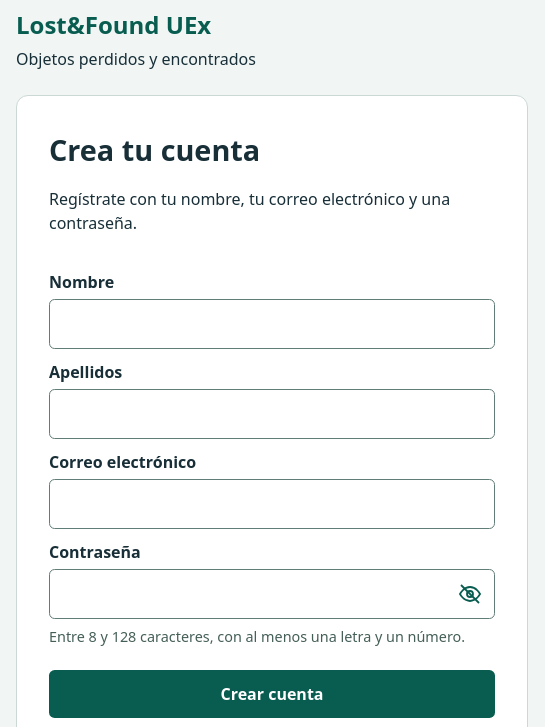
muestra y oculta la contraseña sin cambiarla ni enviar el formulario
The image size is (545, 727).
In the field labelled "Nombre": (272, 324) [49, 299, 495, 349], type "Persona"
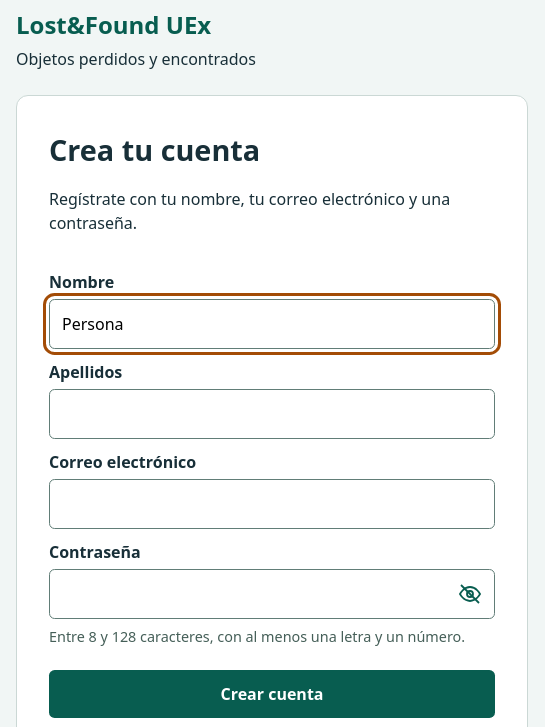
In the field labelled "Apellidos": (272, 414) [49, 389, 495, 439], type "Ficticia Ejemplo"
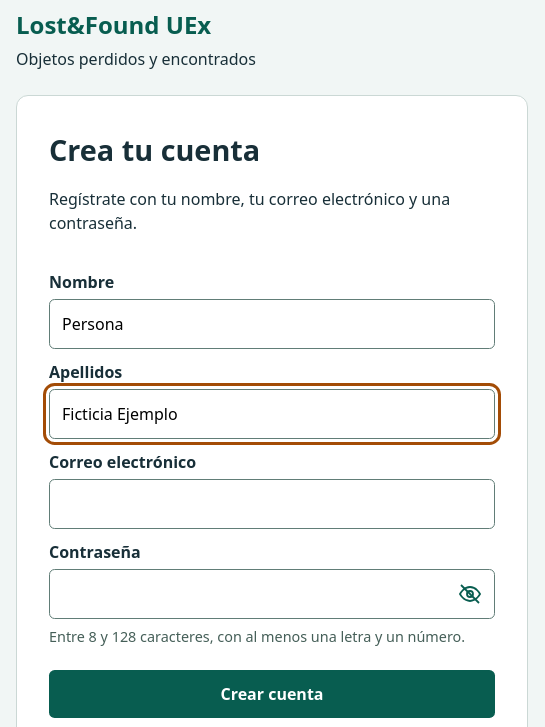
In the field labelled "Correo electrónico": (272, 504) [49, 479, 495, 529], type "test@example.com"
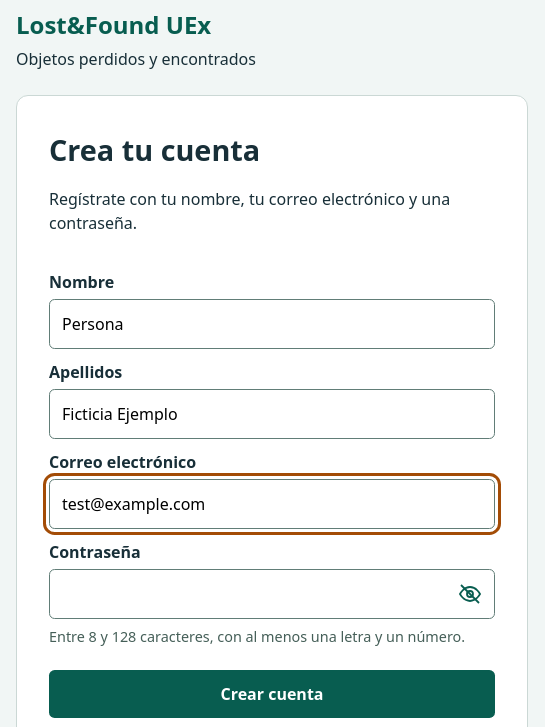
In the password field labelled "Contraseña": (272, 594) [49, 569, 495, 619], type "Prueba1234"
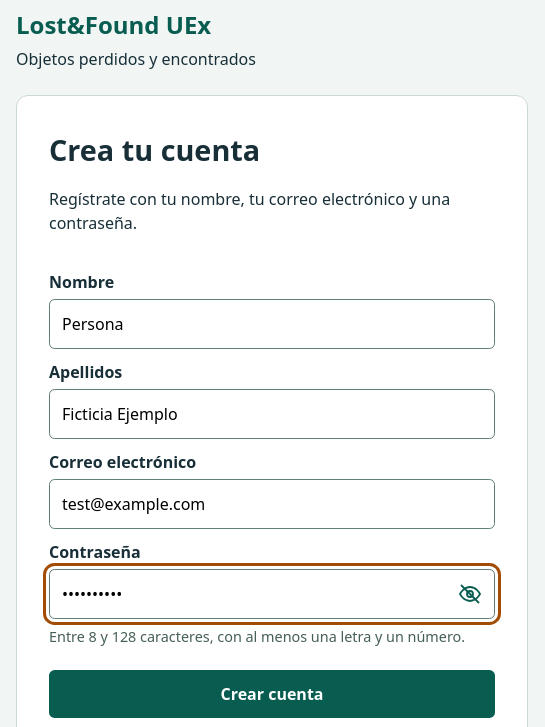
Click the button named "Mostrar contraseña": (470, 594) [448, 572, 492, 616]
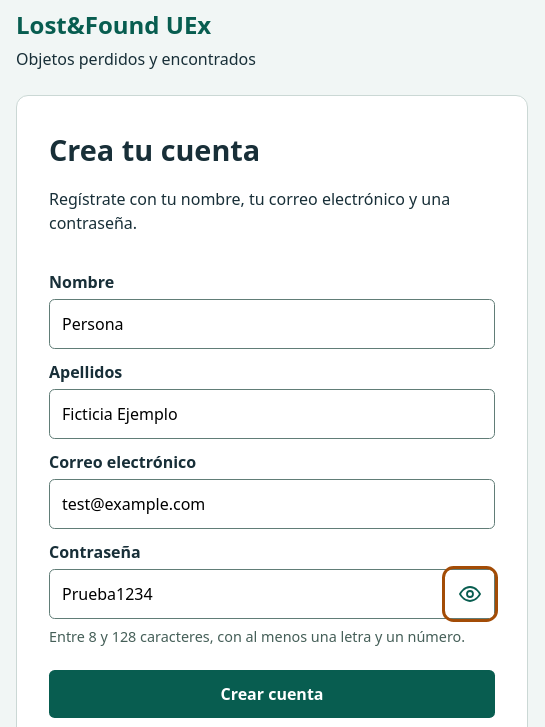
Now the field labelled "Contraseña" shows its text, box [49, 569, 495, 619]
Press Enter
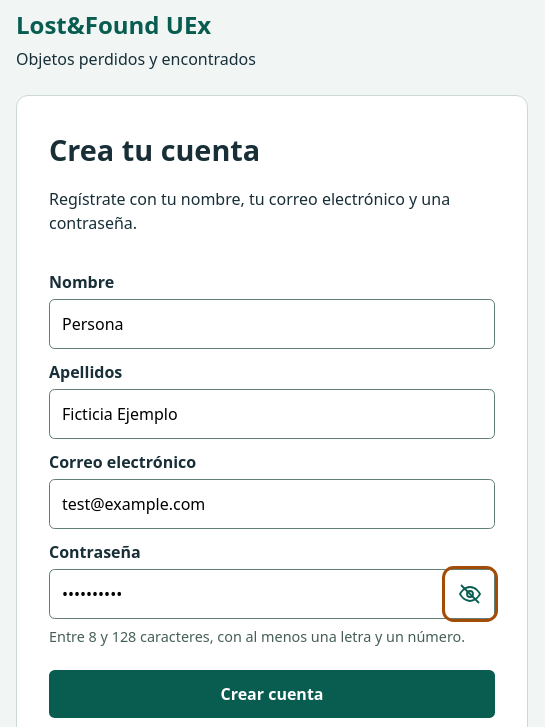
Now the password field labelled "Contraseña" hides its text, box [49, 569, 495, 619]
